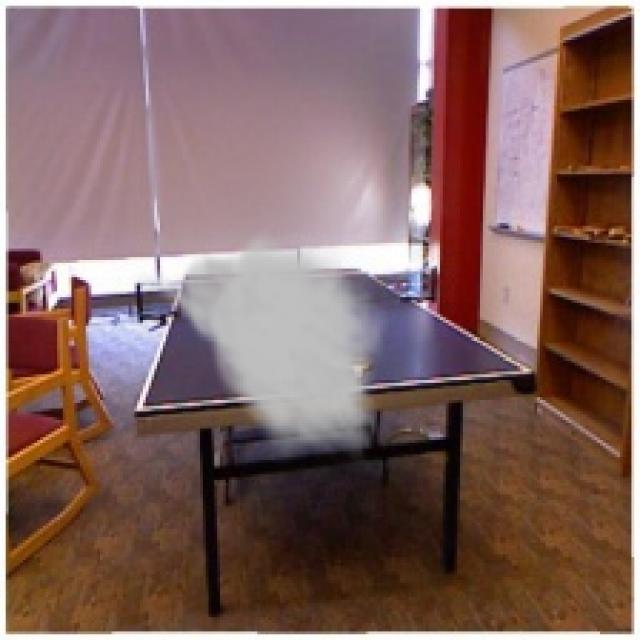smoke: (132, 225, 388, 466)
